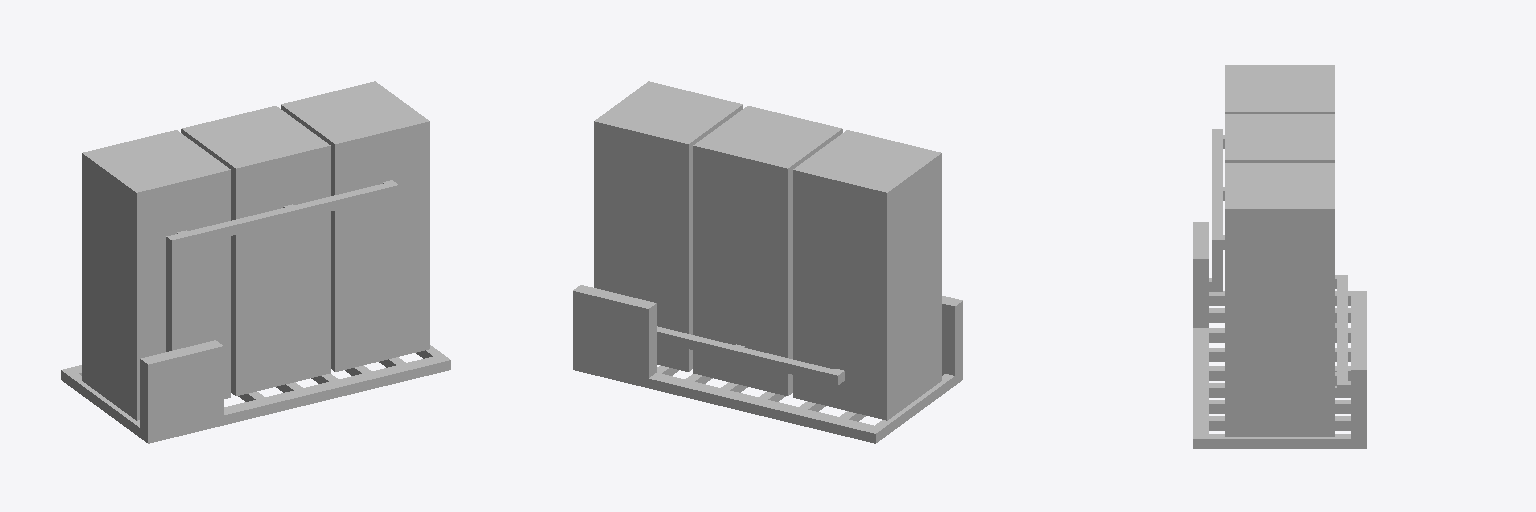
File: water_filter.obj
3 renders of one model, left to right at view 1: azimuth 30°, elevation 25°; view 2: azimuth 150°, elevation 25°; view 3: azimuth 270°, elevation 25°, orthographic.
Parts seen in each view (by area): view 1: cube; view 2: cube; view 3: cube.
Part boxes in pixels (x1,y1,x2,y2): cube: (61,81,450,443); cube: (573,81,962,443); cube: (1193,65,1366,448).
Bounding box in the file's own units: 4 × 3 × 2.